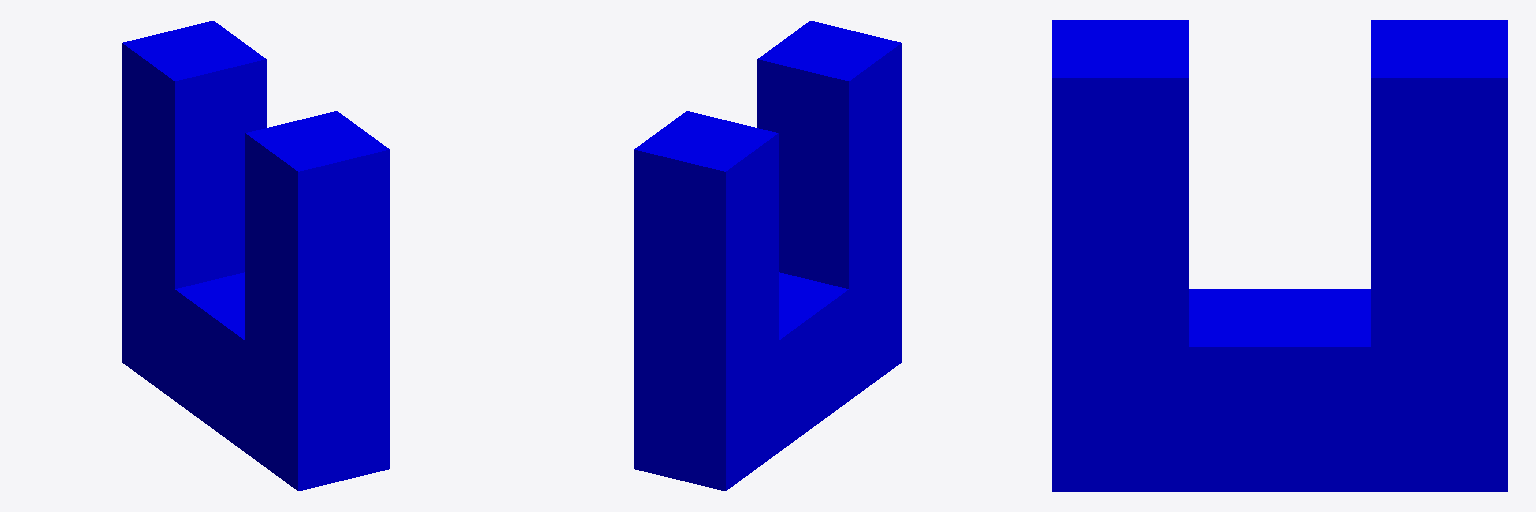
URDF robot description (board1_block1):
<?xml version="1.0"?>
<robot name="board1_block1">
    <link name="board1_block1">
        <visual>
            <origin xyz="0 0 0 " rpy=" 0 0 0"/>
            <geometry>
                <mesh filename="./MOMO_Board1_Block1.stl" scale="0.001 0.001 0.001"/>
            </geometry>
            <material name="red">
                <color rgba="0.0 0.0 1.0 1.0"/>
            </material>
        </visual>
        <collision>
            <origin xyz="0 0 0" rpy="0 0 0"/>
            <geometry>
                <mesh filename="./MOMO_Board1_Block1.stl" scale="0.001 0.001 0.001"/>
            </geometry>
        </collision>
    </link>
</robot>

--- Render facts (derived) ---
Views: 3 orthographic renders of the robot side by side, from view 1: azimuth 30°, elevation 25°; view 2: azimuth 150°, elevation 25°; view 3: azimuth 270°, elevation 25°.
Model board1_block1 with 1 links and 0 joints (none), rooted at board1_block1, posed all joints at 0.
Visible links, largest first — view 1: board1_block1; view 2: board1_block1; view 3: board1_block1.
Boxes of the visible links, x1,y1,x2,y2 form: board1_block1: (122, 21, 389, 490); board1_block1: (634, 21, 901, 490); board1_block1: (1052, 20, 1507, 491).
Bounding box of the posed robot: 0.03 × 0.1 × 0.1 m (x, y, z).
Meshes: 1 distinct files referenced, 1 mesh visuals loaded (1 ASCII STL).